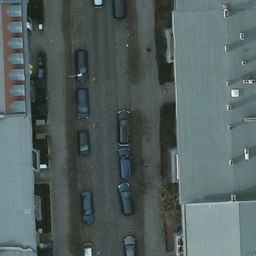car: (79, 191, 99, 223), (117, 182, 135, 216), (115, 112, 131, 144), (117, 147, 132, 181), (74, 89, 90, 119), (74, 48, 88, 81), (121, 234, 137, 256), (78, 129, 91, 156), (112, 1, 126, 17), (91, 1, 104, 7)
